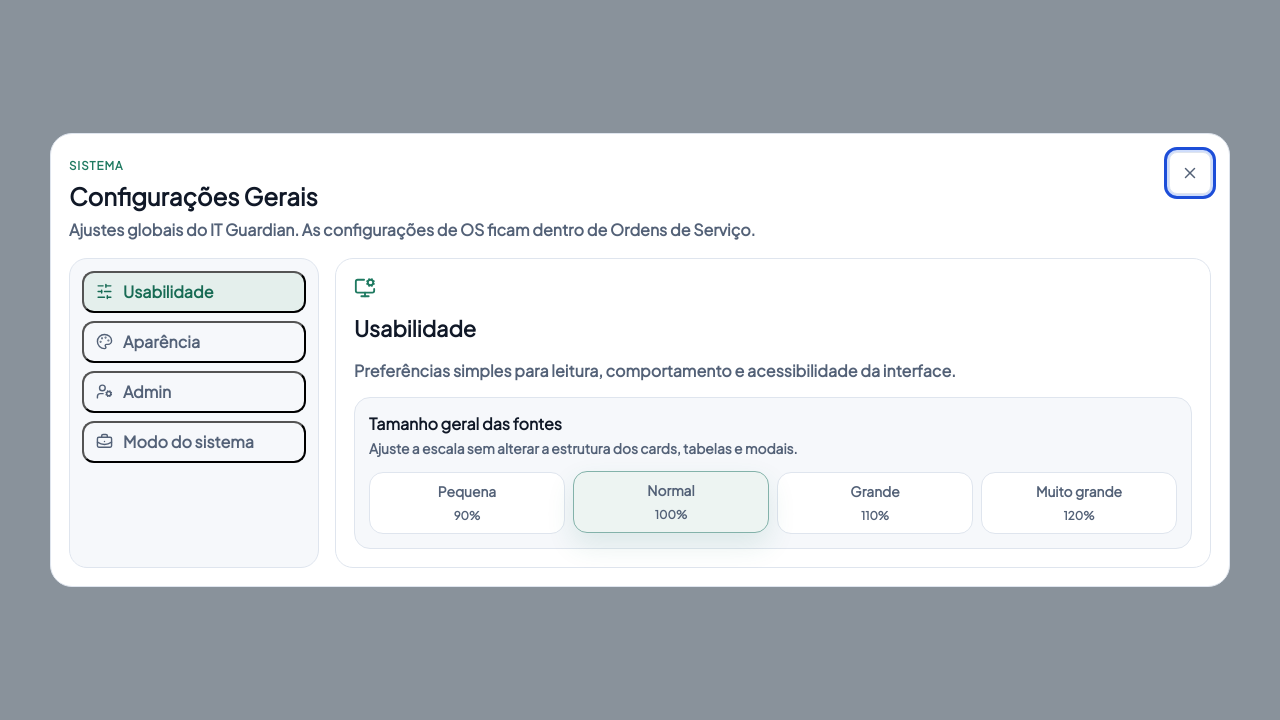
GeneralSettingsModal - admin: usuarios › carrega usuarios, setores e permissoes ao abrir a aba
Step 1. Click the button "Admin" → [194, 392], box [82,371,306,413]
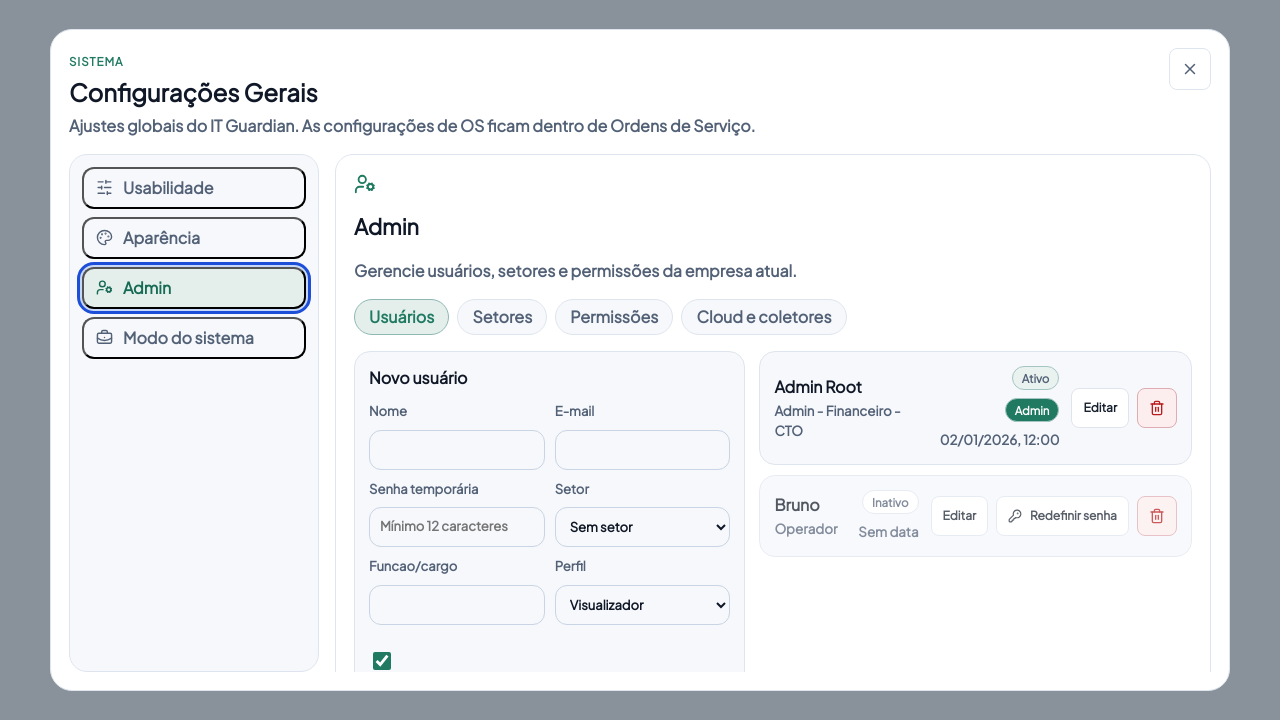
Expected: the text "Admin Root" is shown, [774,376,862,397]
Expected: the text "Bruno" is shown, [774,494,820,515]
Expected: the text "Inativo" is shown, [862,490,918,514]
